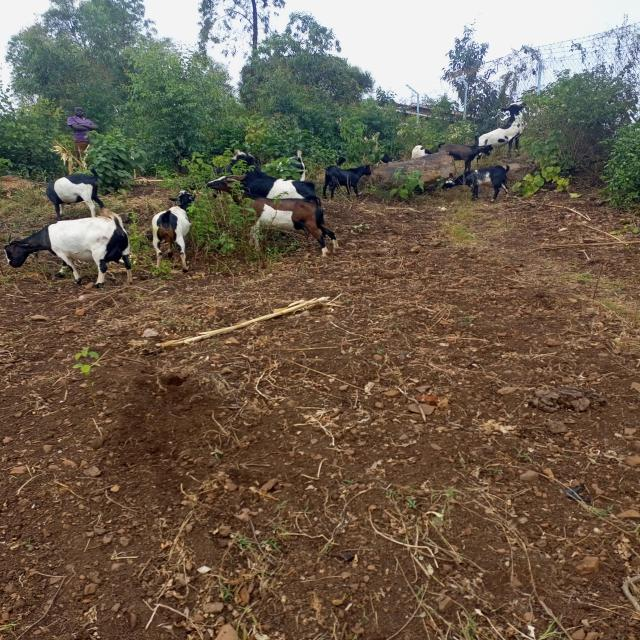goat: (0, 175, 155, 323)
